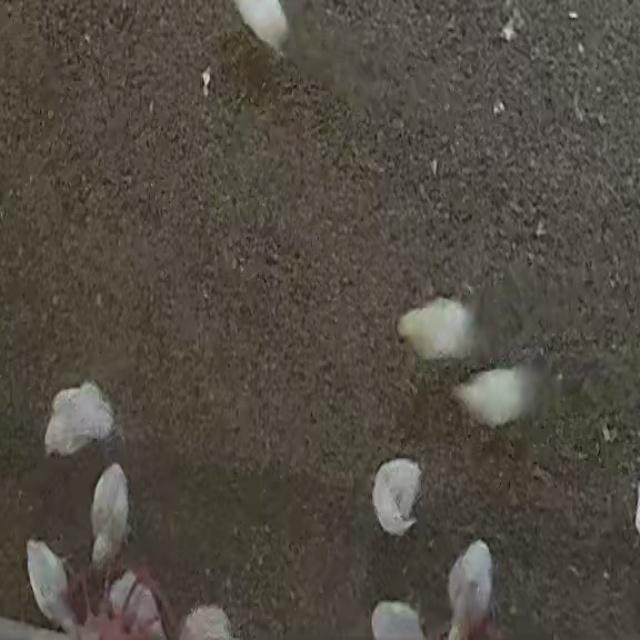chicken: (439, 527, 498, 640), (42, 378, 120, 462), (23, 537, 77, 634), (397, 296, 477, 360), (449, 367, 528, 428), (90, 461, 130, 571), (374, 458, 432, 530)
